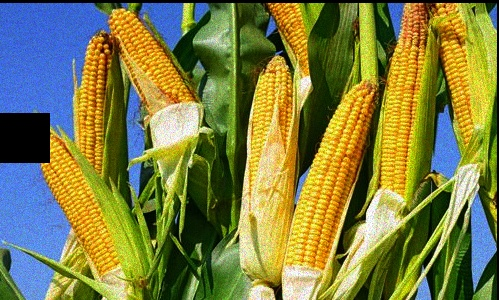corn: (27, 133, 140, 286), (110, 7, 205, 169), (287, 82, 366, 274), (244, 60, 293, 280), (381, 3, 430, 205), (440, 21, 497, 165), (78, 35, 119, 181)
